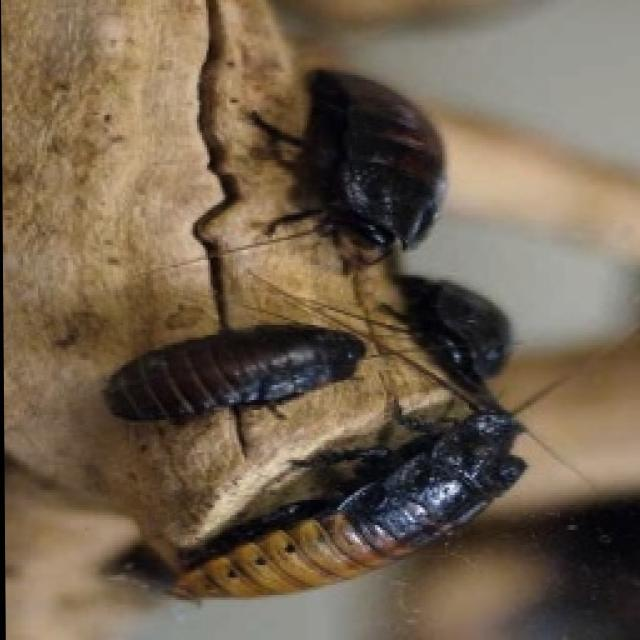cockroach: (146, 398, 523, 640), (76, 302, 377, 452), (282, 44, 470, 279), (392, 268, 535, 392)
